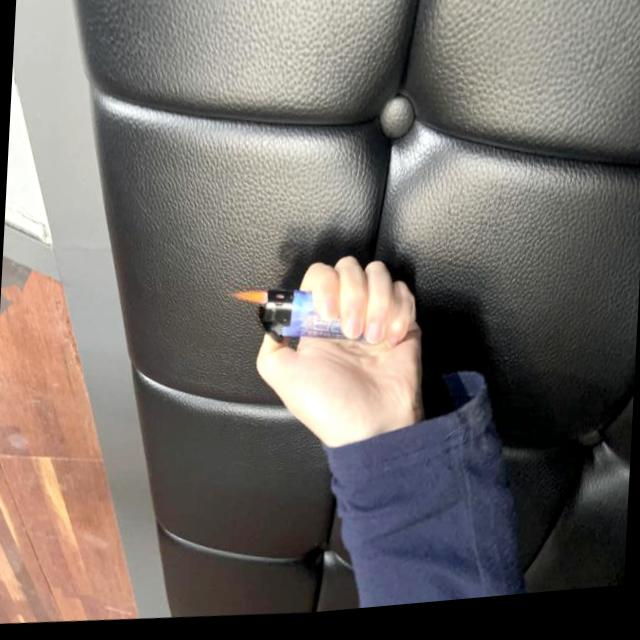helmet: (228, 292, 270, 311)
